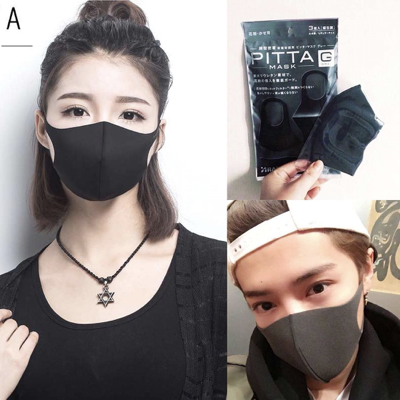with_mask: (241, 261, 365, 390), (44, 88, 161, 206)
